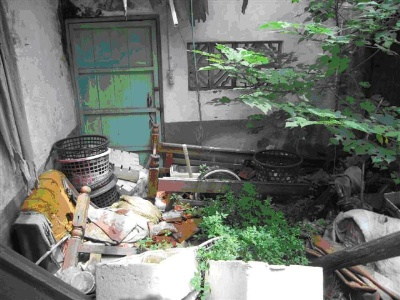styrofoam: (95, 246, 198, 300), (203, 261, 324, 300), (109, 148, 141, 182)
